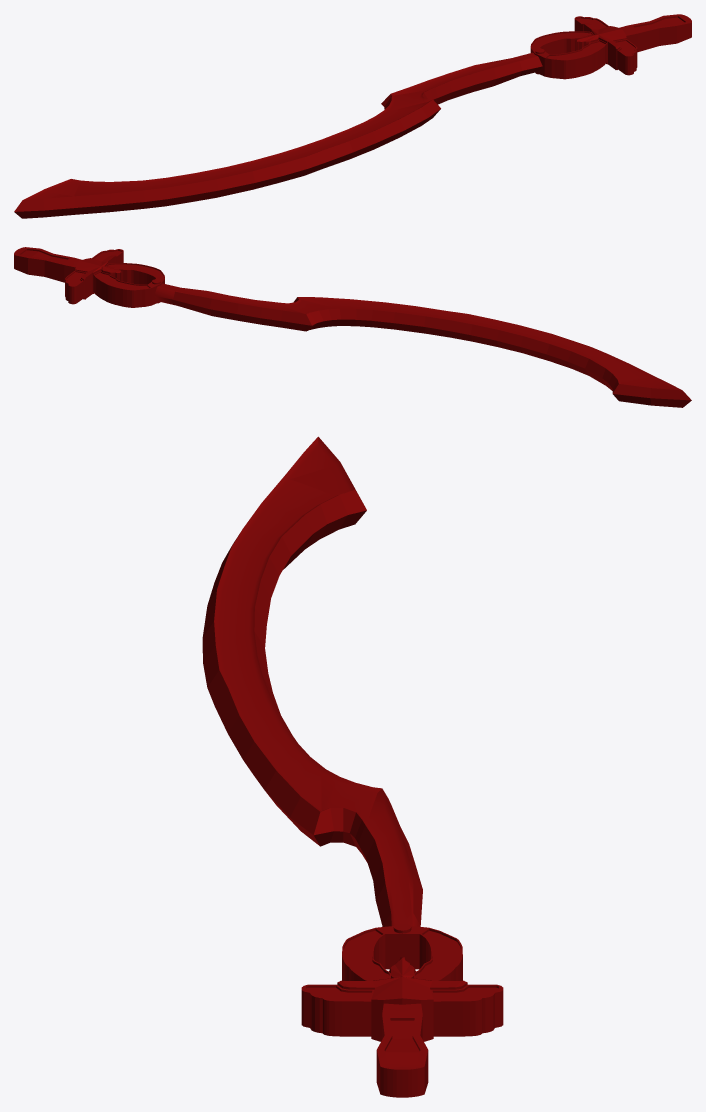
The model's file is Espada.fbx.
The picture shows the model from 3 angles, top to bottom: view 1: azimuth 30°, elevation 25°; view 2: azimuth 150°, elevation 25°; view 3: azimuth 270°, elevation 25°; orthographic projection. The views are drawn at different scales.
Parts seen in each view (by area): view 1: Espada:pCylinder3; view 2: Espada:pCylinder3; view 3: Espada:pCylinder3.
Boxes of the visible parts, bbox=[...] form: Espada:pCylinder3: bbox=[14, 14, 691, 218]; Espada:pCylinder3: bbox=[14, 247, 691, 407]; Espada:pCylinder3: bbox=[202, 436, 503, 1097].
Bounding box in the file's own units: 19.69 × 0.7024 × 3.93.
